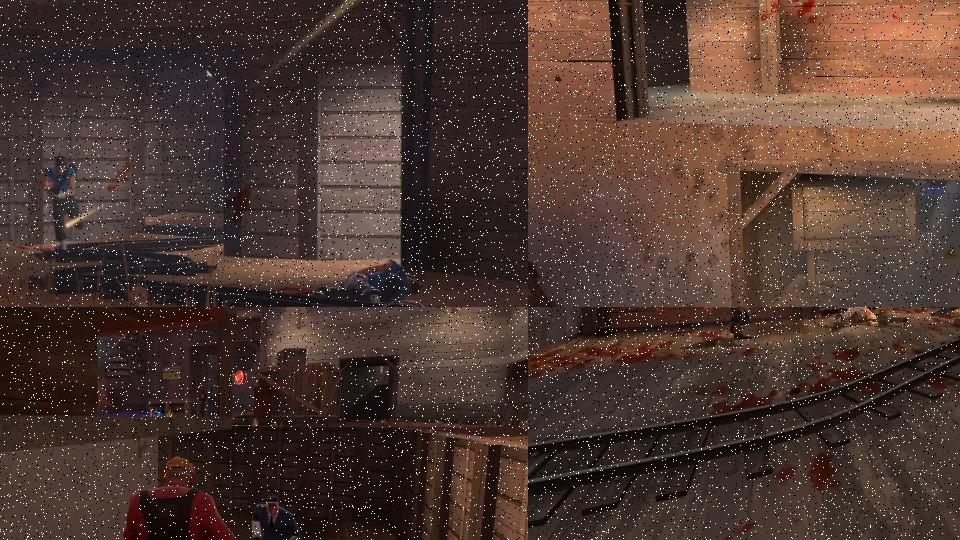Enemy: (121, 449, 240, 540), (36, 150, 95, 262), (238, 490, 305, 540), (702, 307, 773, 345)
